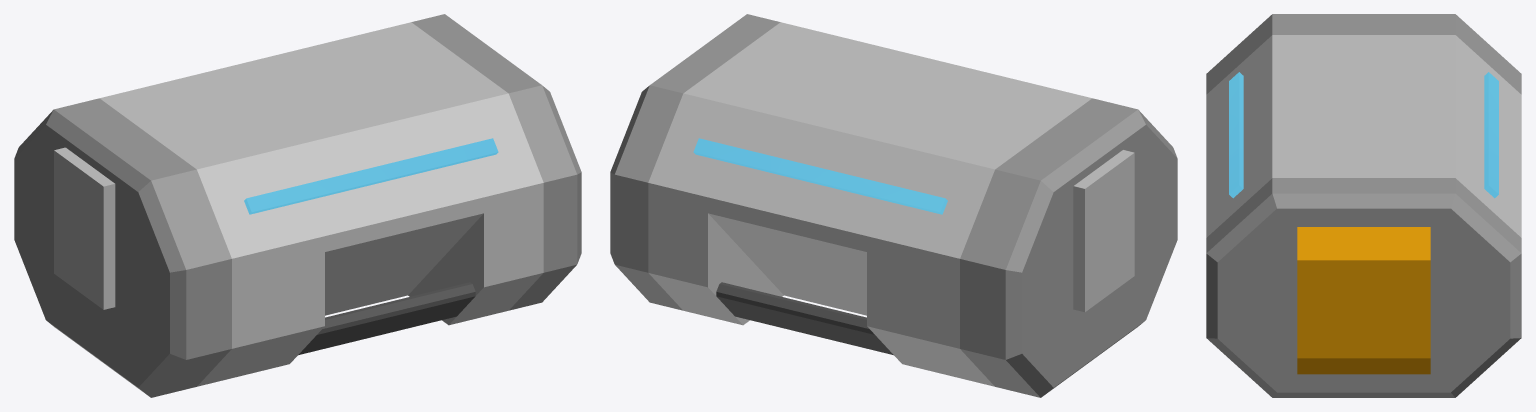
Rendered from SM_LMG01_Battery.fbx.
3 renders of one model, left to right at view 1: azimuth 30°, elevation 25°; view 2: azimuth 150°, elevation 25°; view 3: azimuth 270°, elevation 25°, orthographic. The views are drawn at different scales.
Visible parts, largest first — view 1: SM_LMG01_Battery; view 2: SM_LMG01_Battery; view 3: SM_LMG01_Battery.
Boxes of the visible parts, <box> form: SM_LMG01_Battery: <box>14,14,581,397</box>; SM_LMG01_Battery: <box>610,14,1177,397</box>; SM_LMG01_Battery: <box>1206,14,1521,397</box>.
Bounding box in the file's own units: 18.66 × 8.69 × 12.14.
